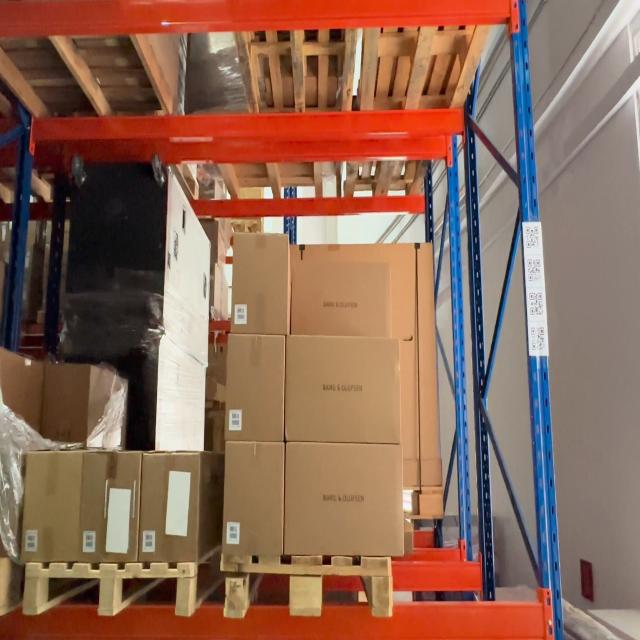box: (65, 178, 165, 325), (287, 447, 403, 553), (285, 336, 398, 444), (20, 450, 81, 564), (228, 333, 286, 445), (292, 266, 388, 332), (227, 450, 280, 561), (231, 231, 288, 333), (85, 454, 139, 558), (143, 459, 201, 555), (38, 367, 86, 447)
